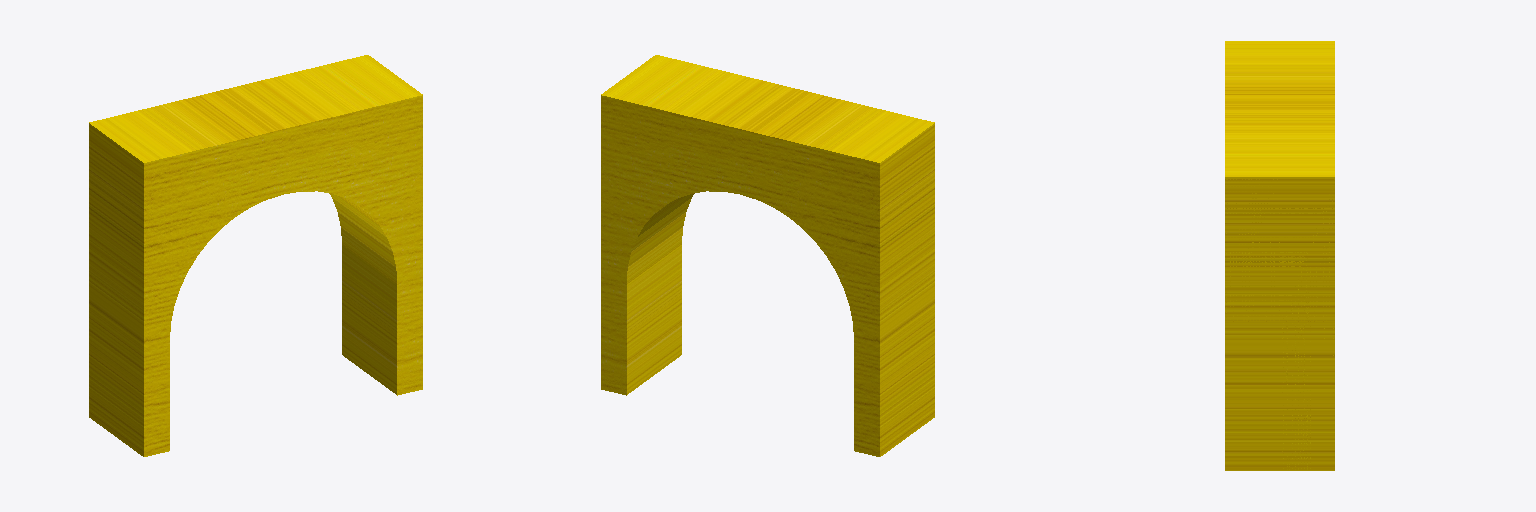
3 renders of one model, left to right at view 1: azimuth 30°, elevation 25°; view 2: azimuth 150°, elevation 25°; view 3: azimuth 270°, elevation 25°, orthographic.
Visible parts, largest first — view 1: Line001; view 2: Line001; view 3: Line001.
Part boxes in pixels (bbox=[...]): Line001: bbox=[89, 55, 422, 456]; Line001: bbox=[601, 55, 934, 456]; Line001: bbox=[1225, 41, 1334, 470].
Bounding box in the file's own units: 61.53 × 61.91 × 21.14.
1 materials, 1 textured.